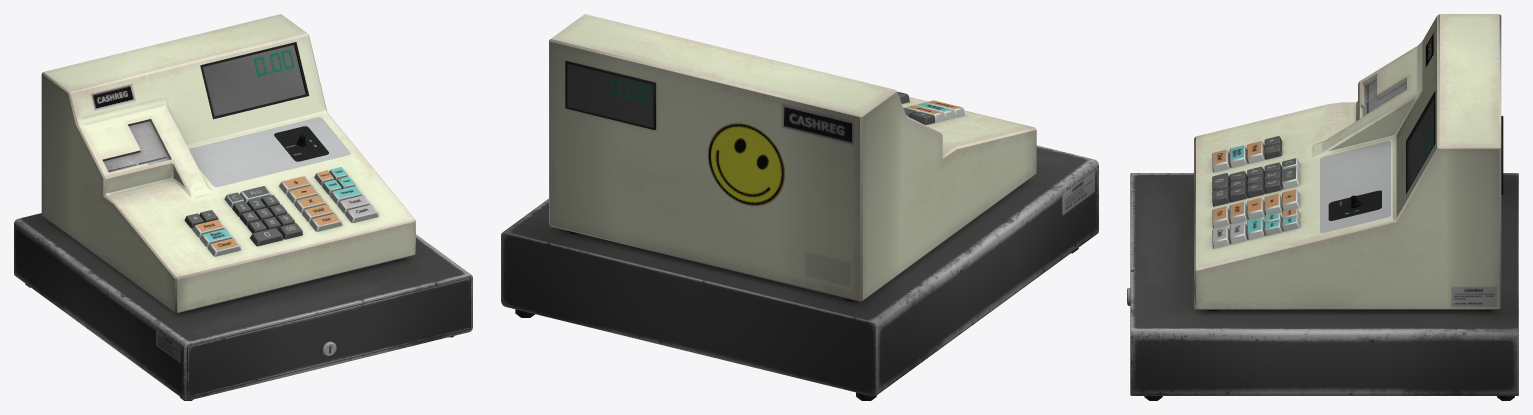
Rendered from video_store_cash_register.fbx.
3 views of the same model, side by side, from view 1: azimuth 30°, elevation 25°; view 2: azimuth 150°, elevation 25°; view 3: azimuth 270°, elevation 25° (orthographic). The views are drawn at different scales.
Visible parts, largest first — view 1: Mesh74_Group105_Group1_Model; view 2: Mesh74_Group105_Group1_Model; view 3: Mesh74_Group105_Group1_Model.
Part boxes in pixels (bbox=[...]): Mesh74_Group105_Group1_Model: bbox=[14, 14, 472, 400]; Mesh74_Group105_Group1_Model: bbox=[501, 14, 1098, 400]; Mesh74_Group105_Group1_Model: bbox=[1127, 14, 1518, 400].
Size of the model in its own units: 42 by 29.65 by 43.37.
1 material, 1 textured.
